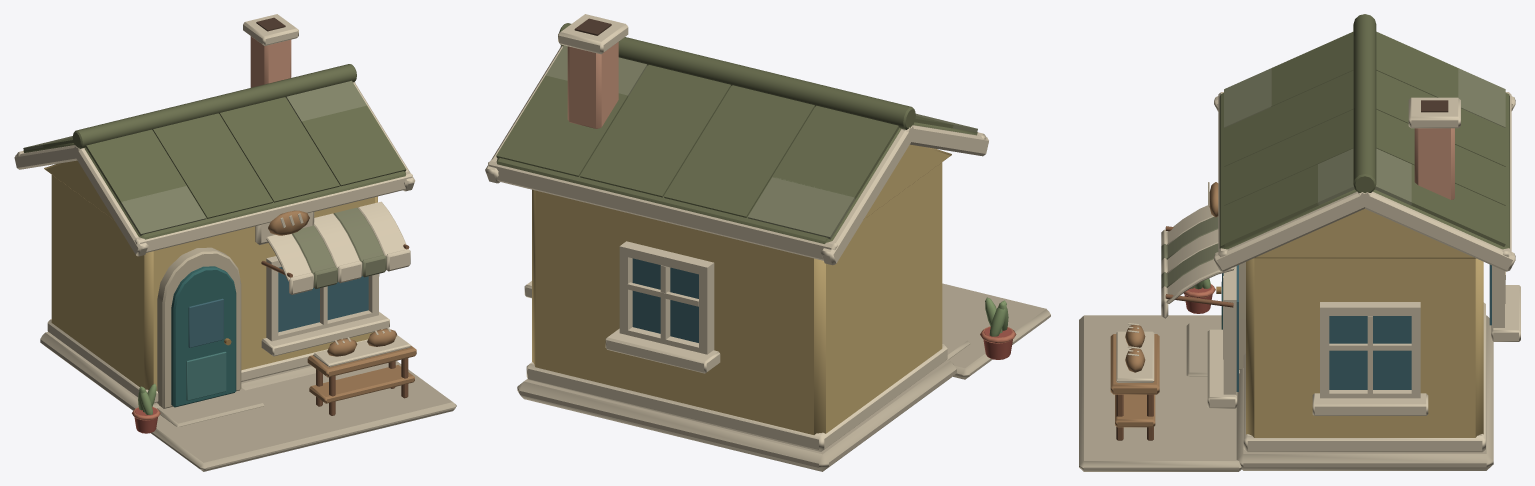
The model's file is bakery_level_2.glb.
3 renders of one model, left to right at view 1: azimuth 30°, elevation 25°; view 2: azimuth 150°, elevation 25°; view 3: azimuth 270°, elevation 25°, orthographic. The views are drawn at different scales.
Visible parts, largest first — view 1: bakery_level_2_runtime; view 2: bakery_level_2_runtime; view 3: bakery_level_2_runtime.
Boxes of the visible parts, bbox=[...] form: bakery_level_2_runtime: bbox=[14, 14, 456, 471]; bakery_level_2_runtime: bbox=[485, 14, 1050, 471]; bakery_level_2_runtime: bbox=[1079, 14, 1520, 471].
Size of the model in its own units: 3.72 by 3.49 by 4.05.
